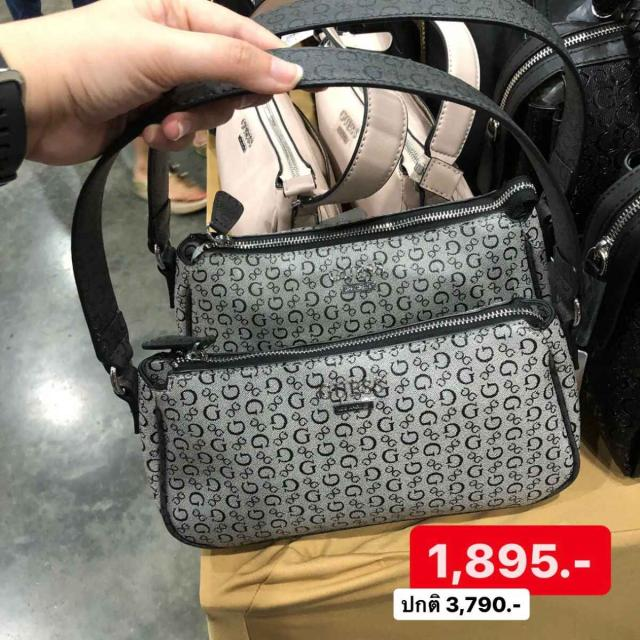handbag: (129, 296, 591, 558)
